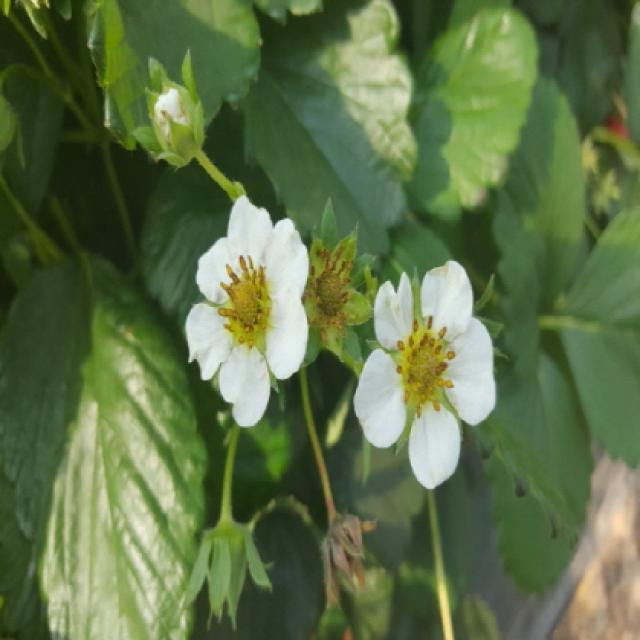Blossom Blight: (388, 313, 462, 420), (213, 250, 275, 352), (305, 250, 354, 325)
